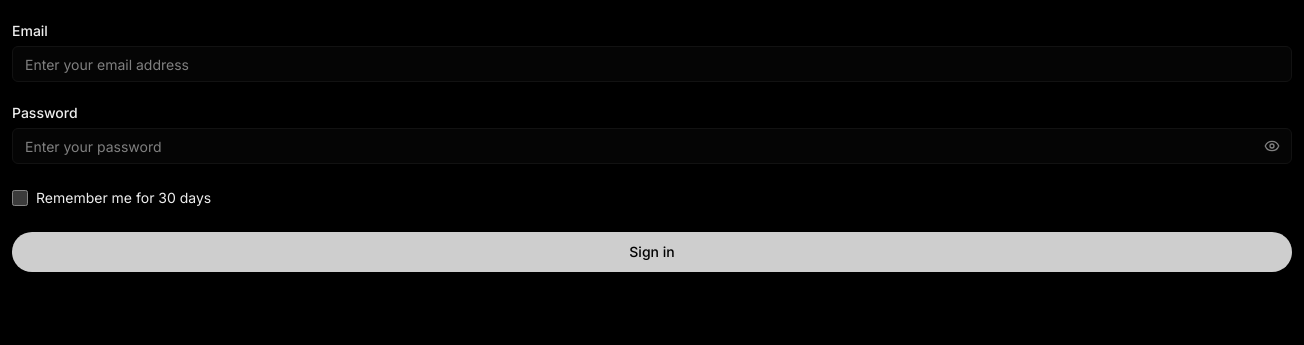
LoginForm › Error Handling (Requirement 3.2, 3.7) › should display rate limiting error
The image size is (1304, 345).
Fill in credentials
In the field labelled "Email": (652, 64) [12,46,1292,82], type "john@example.com"
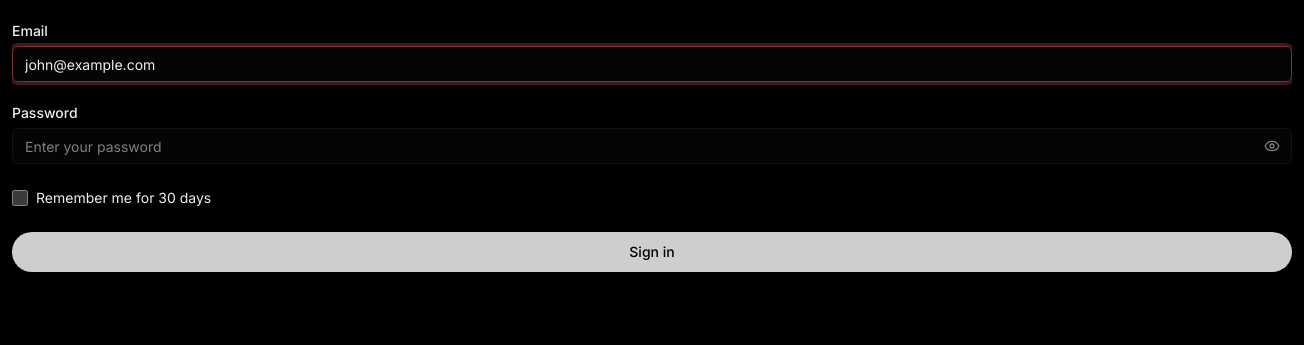
In the password field with placeholder "Enter your password": (652, 146) [12,128,1292,164], type "ValidPass123!"
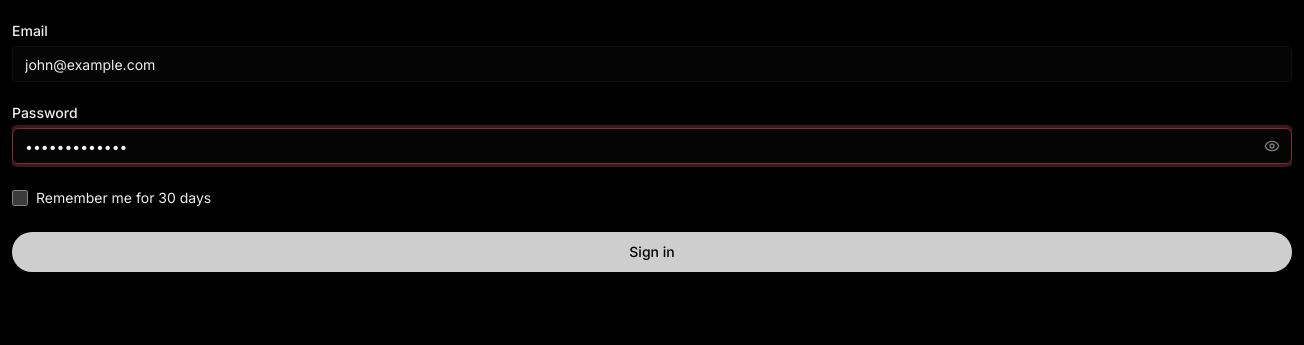
Submit form
Click the button "Sign in": (652, 252) [12,232,1292,272]
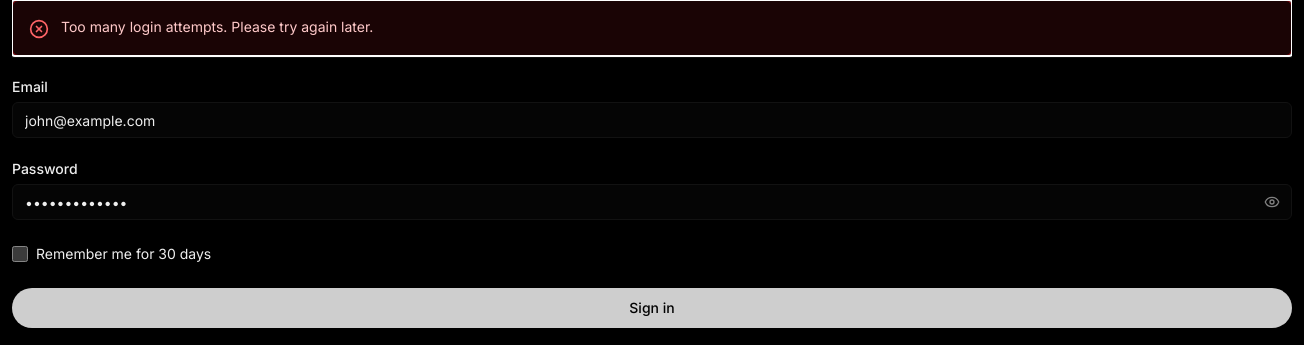
Expected: the text "Too many login attempts. Please try again later." is shown, [61,17,373,37]
